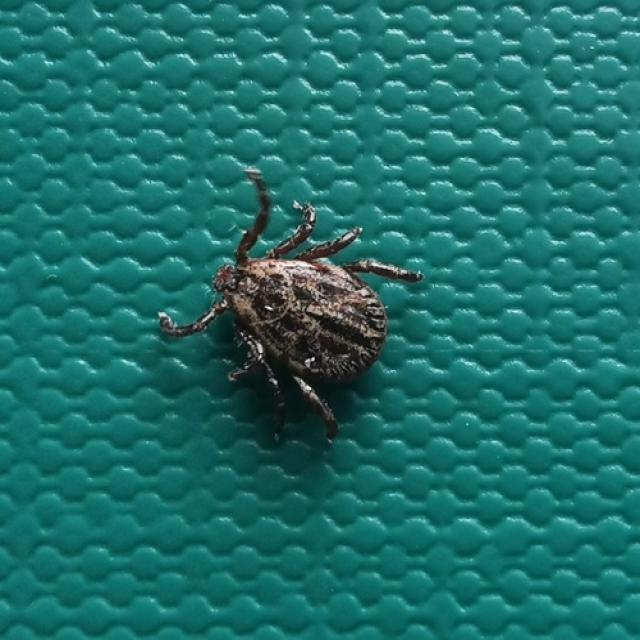Dermacentor Reticulatus-M: (159, 169, 424, 439)
